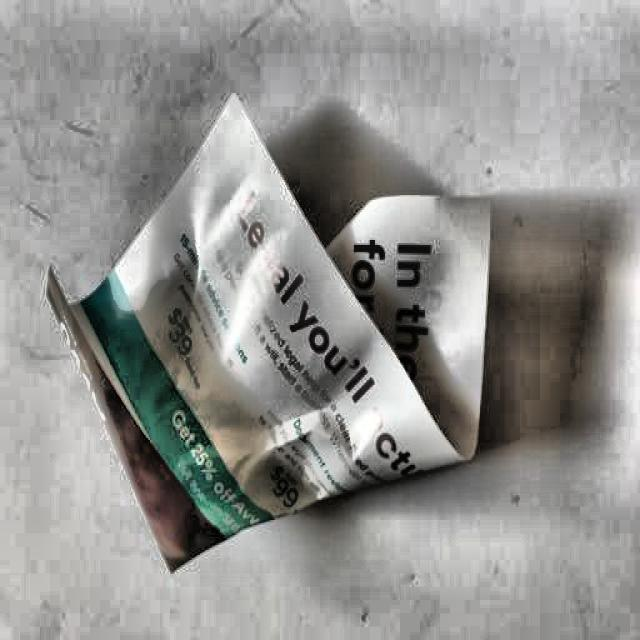paper: (42, 84, 490, 583)
